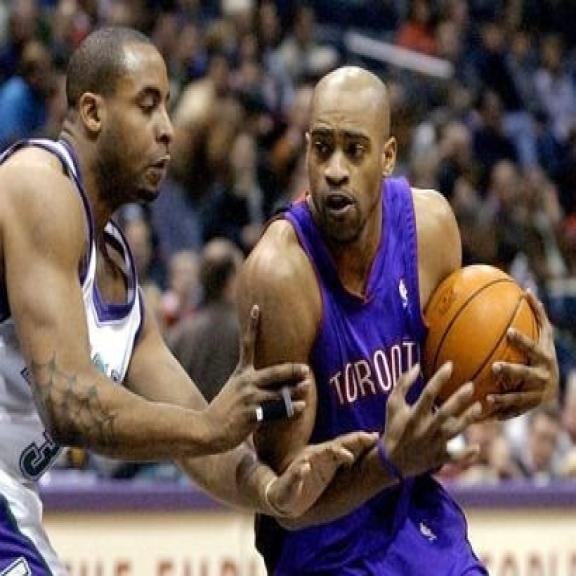face: (82, 33, 178, 208), (304, 81, 401, 250)
